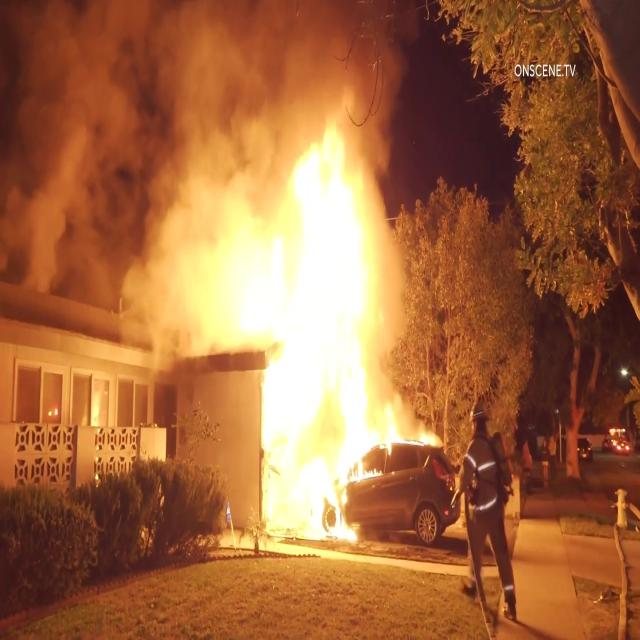fire: (295, 120, 388, 441), (215, 206, 387, 345), (274, 353, 352, 537)
smoke: (1, 2, 211, 299), (0, 0, 291, 197), (0, 0, 388, 113)
